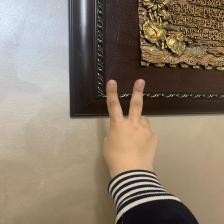two: (92, 74, 163, 190)
